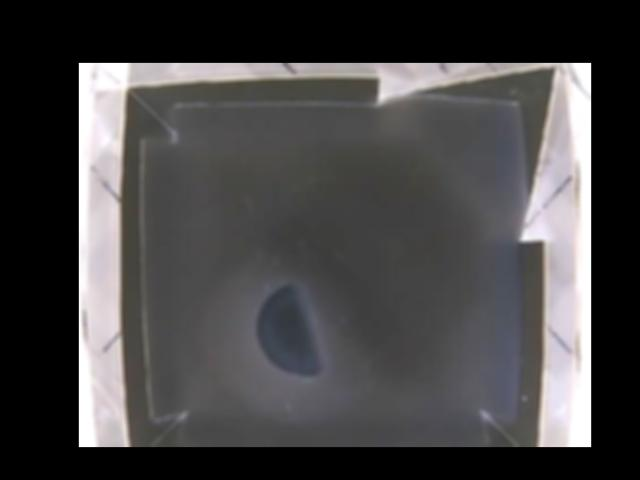Mooli: (253, 280, 326, 377)
